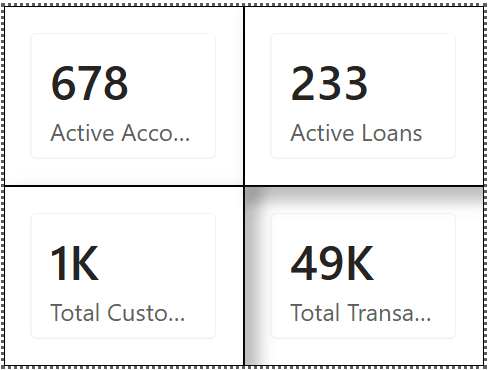

What the dashboard file says about the page in this screenshot:
{"tool":"powerbi","page":{"name":"Tooltip","canvas":[320,240],"ordinal":1},"visuals":[{"type":"cardVisual","fields":{"Data":["Transactions.Total Transactions"]},"box":[160,120,160,120],"z":0},{"type":"cardVisual","fields":{"Data":["Accounts.Active Accounts"]},"box":[0,0,160,120],"z":1},{"type":"cardVisual","fields":{"Data":["Customers.Total Customers"]},"box":[0,120,160,120],"z":2},{"type":"cardVisual","fields":{"Data":["Loans.Active Loans"]},"box":[160,0,160,120],"z":3}]}

Visuals, with their boxes in screenshot pixels (x1, y1, x2, y2), scaled from the page's 320x240 canvas onto the 490x370 screenshot:
cardVisual - Transactions.Total Transactions: l=245, t=185, r=489, b=369
cardVisual - Accounts.Active Accounts: l=0, t=0, r=245, b=185
cardVisual - Customers.Total Customers: l=0, t=185, r=245, b=369
cardVisual - Loans.Active Loans: l=245, t=0, r=489, b=185
